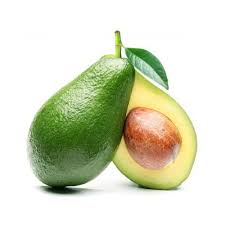aguacate: (21, 39, 138, 201)
